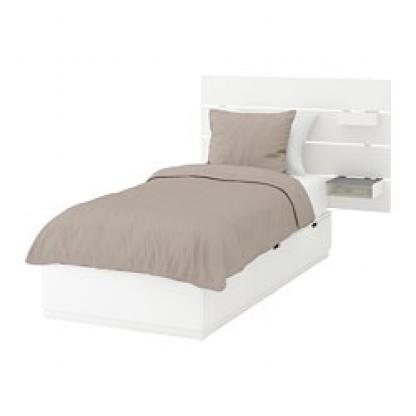Bed: (17, 47, 399, 356)
